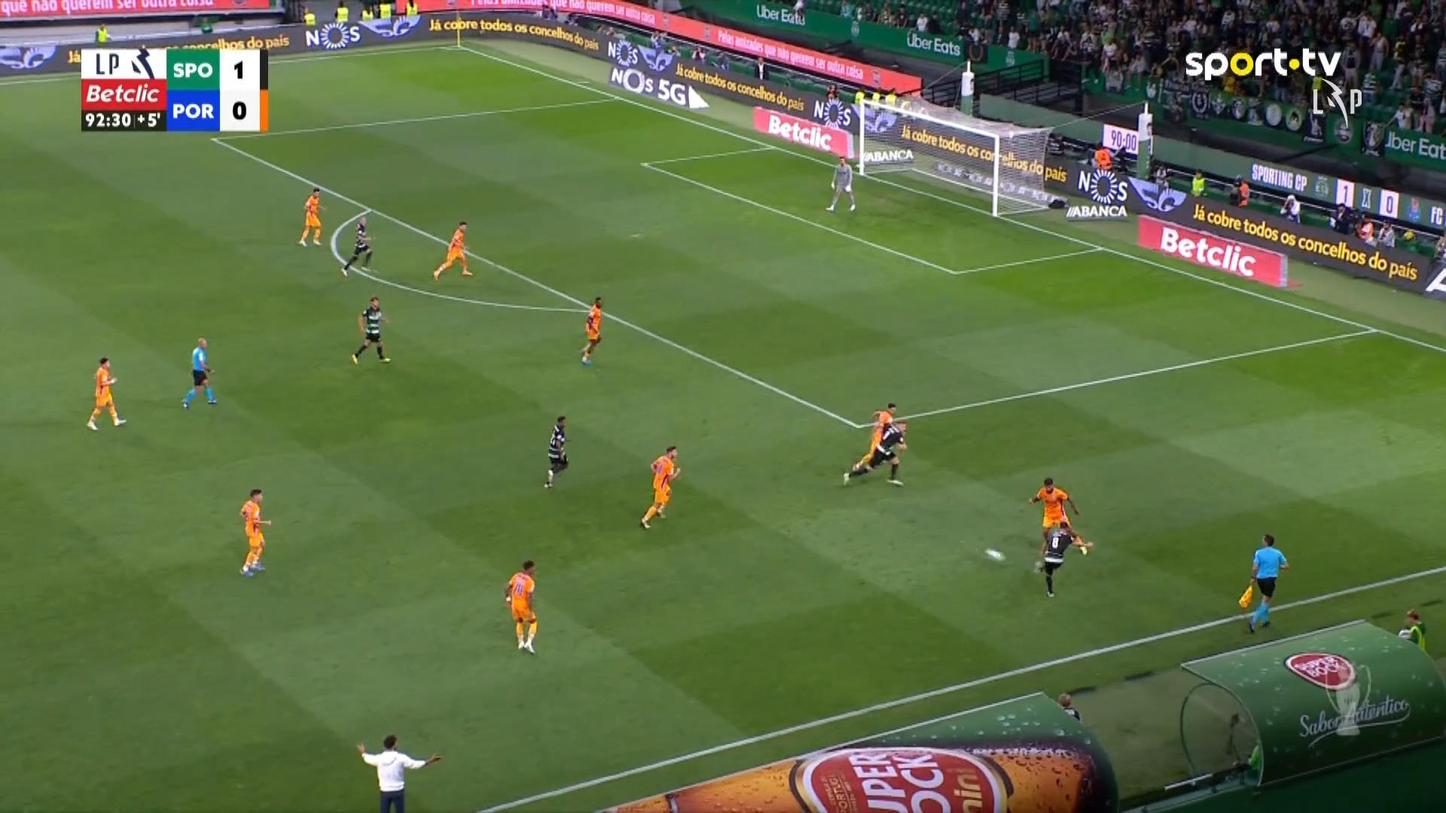ball: (984, 548, 1005, 562)
goalkeeper: (825, 155, 856, 212)
player: (1028, 477, 1078, 570), (1037, 519, 1094, 598), (842, 420, 908, 487), (639, 445, 681, 529), (504, 559, 538, 654), (85, 356, 127, 431), (349, 296, 391, 364), (239, 489, 271, 577), (432, 221, 474, 281), (865, 402, 898, 470), (542, 415, 569, 489), (340, 215, 372, 277), (580, 297, 603, 364), (297, 187, 322, 246), (1398, 609, 1426, 652), (1057, 692, 1080, 721)
referee: (1246, 532, 1289, 633), (181, 336, 218, 410)
